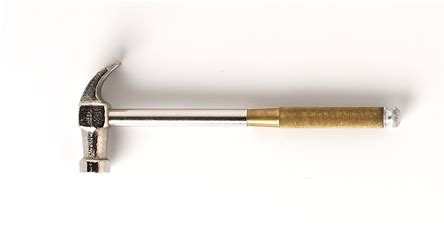martillu: (70, 55, 411, 179)
